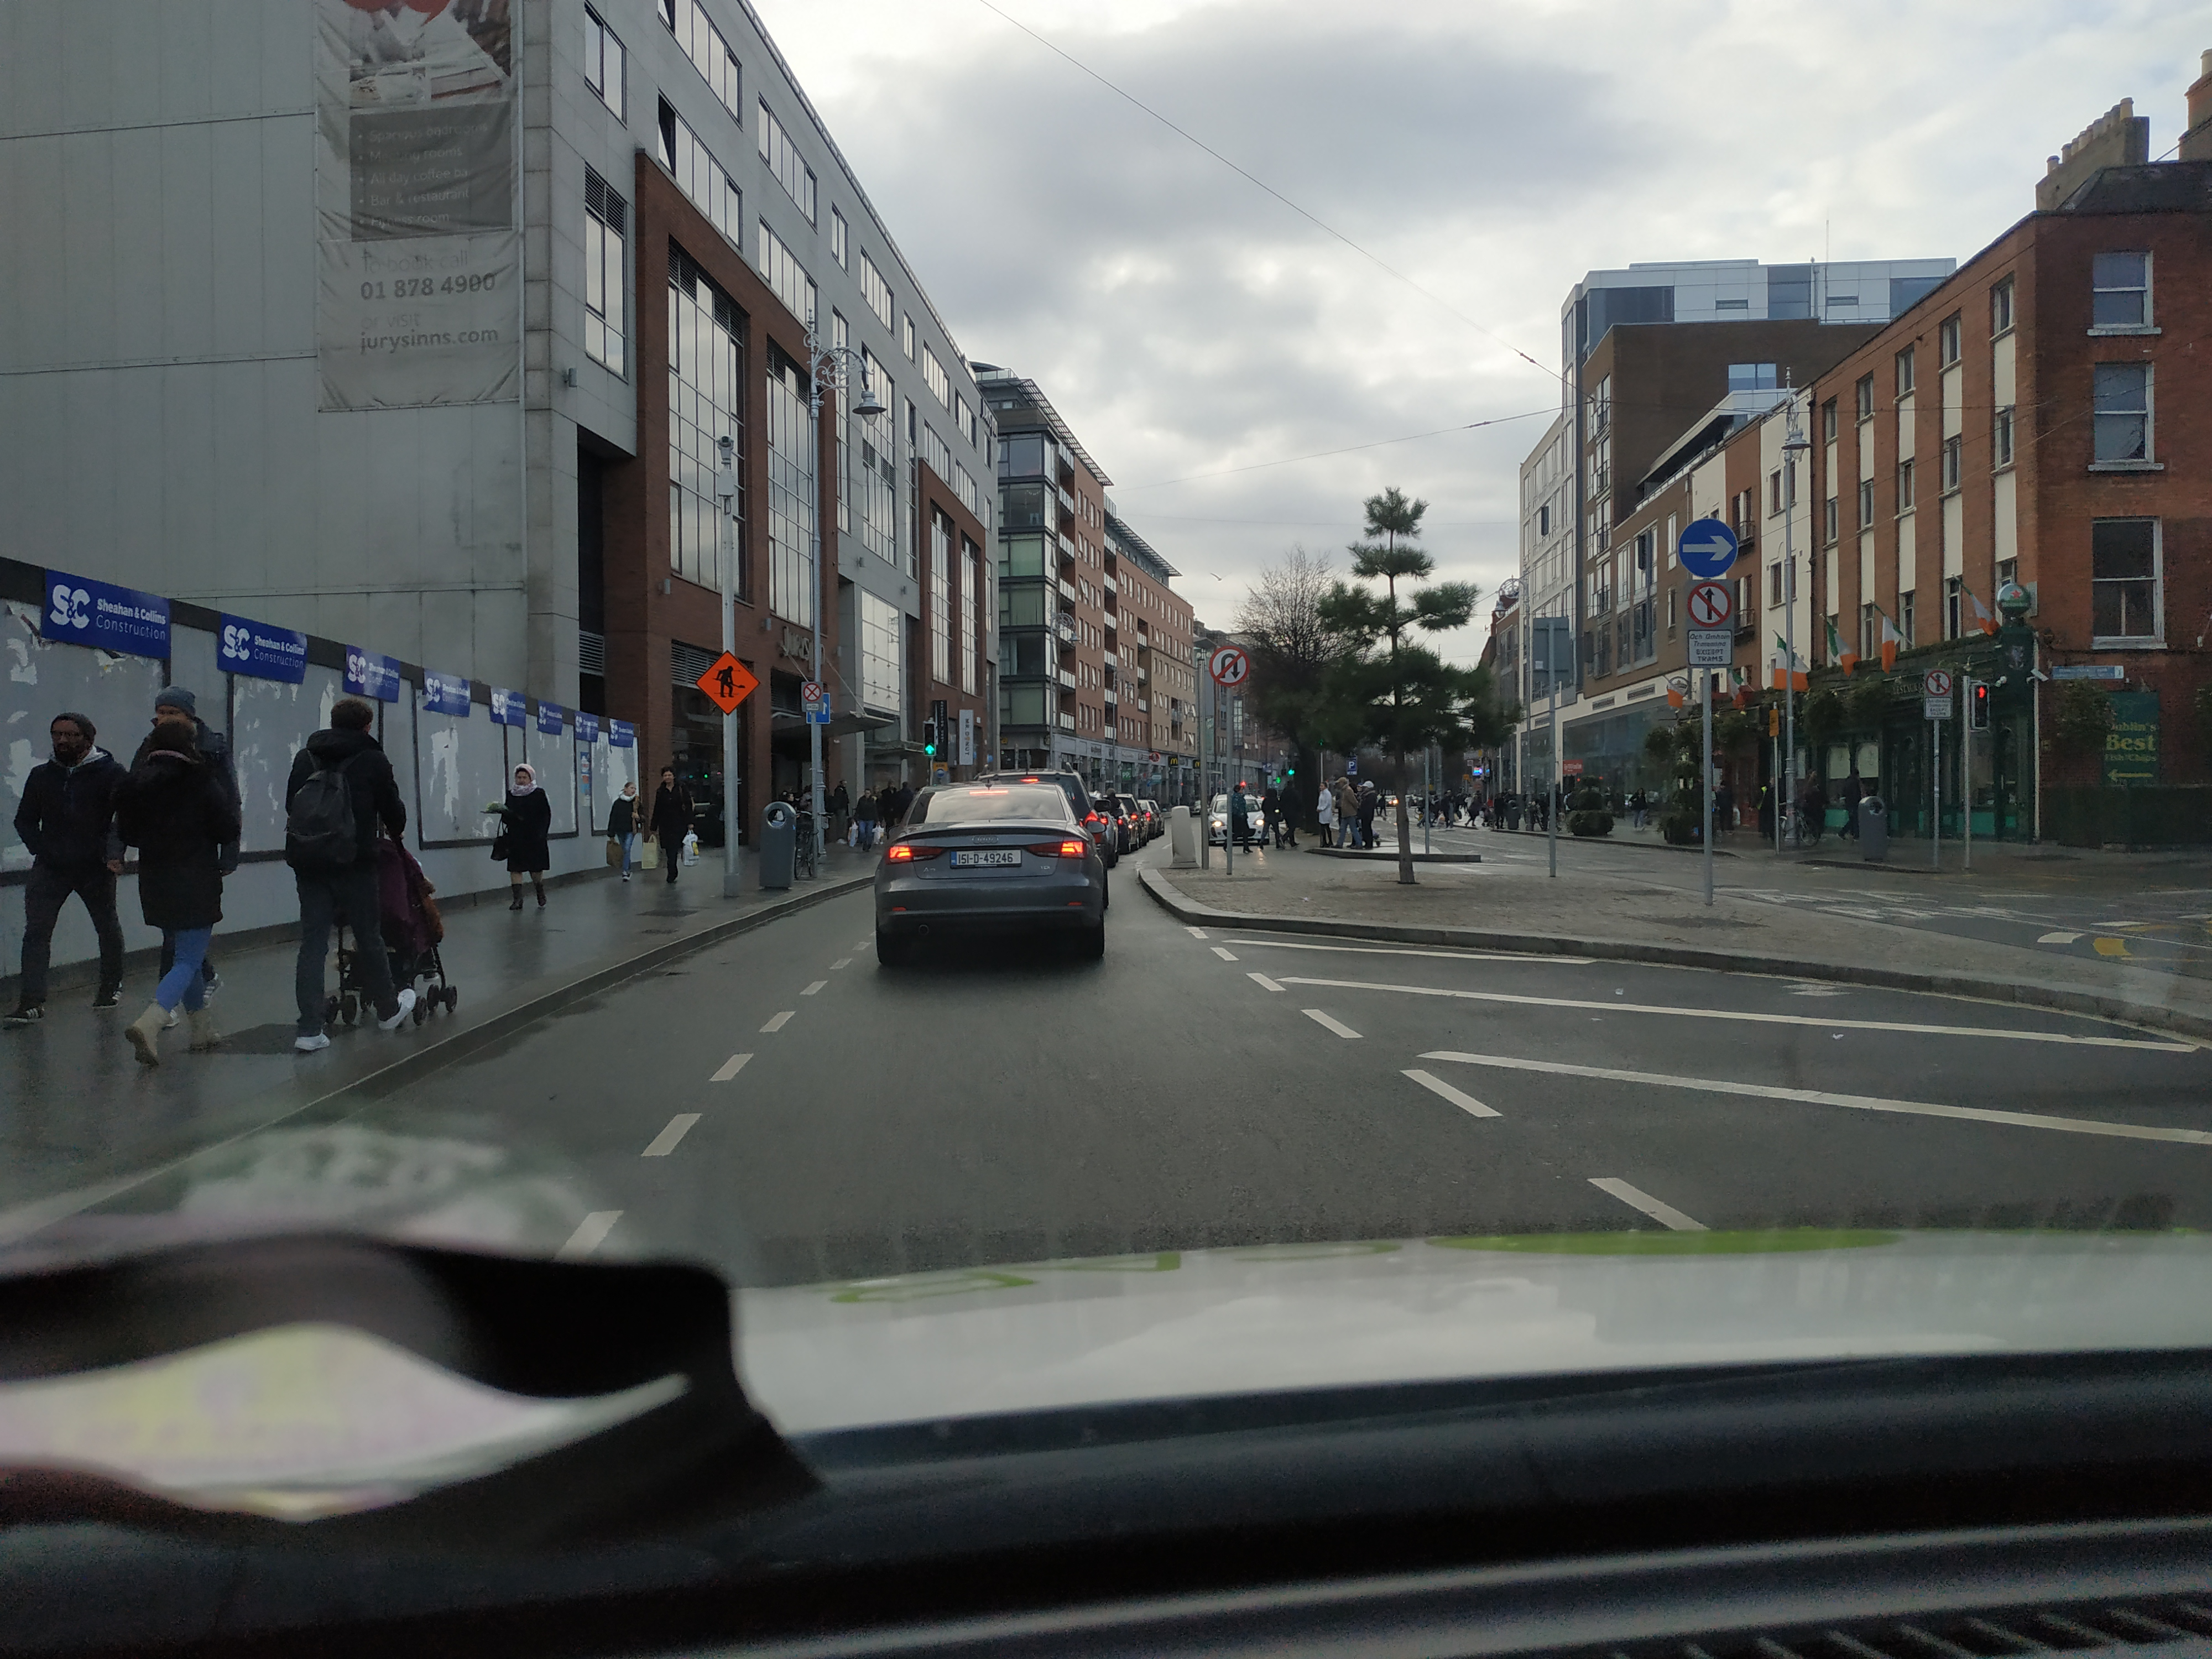Bicycle: (792, 809, 834, 881), (1772, 797, 1819, 844)
Car: (874, 783, 1107, 964)
Person: (106, 686, 244, 1026), (283, 702, 419, 1050), (118, 722, 241, 1062), (8, 713, 129, 1022), (489, 765, 552, 910), (649, 768, 696, 883), (606, 783, 644, 881), (1335, 777, 1363, 853), (1223, 786, 1251, 853), (1282, 781, 1306, 847), (1259, 788, 1284, 849), (1358, 780, 1380, 849), (831, 780, 852, 845), (1314, 781, 1335, 848), (1714, 780, 1736, 834), (879, 780, 899, 836), (1629, 787, 1651, 832)
